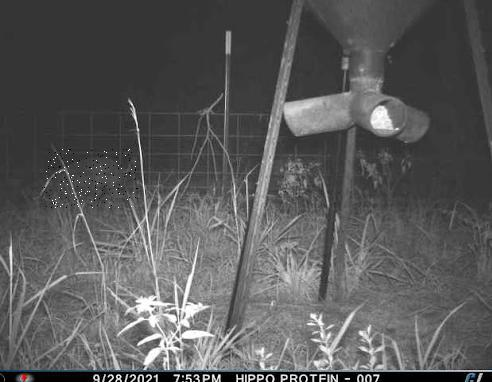Hog: (44, 149, 139, 208)
